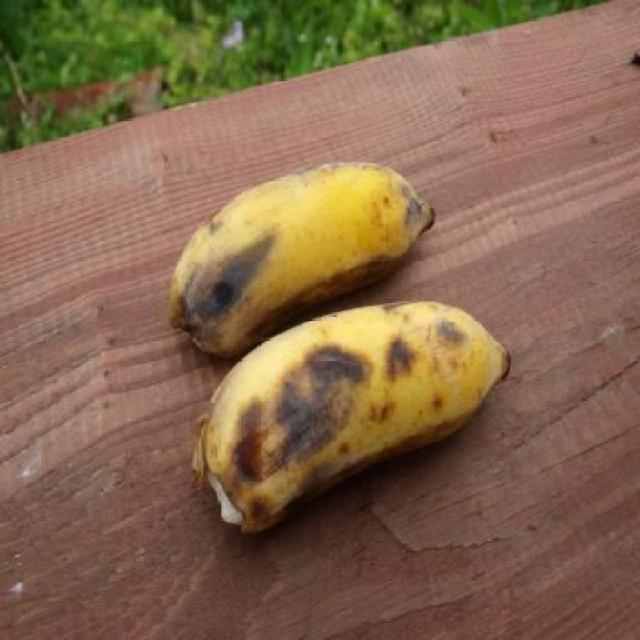Banana: (191, 302, 514, 540), (166, 168, 437, 354)
